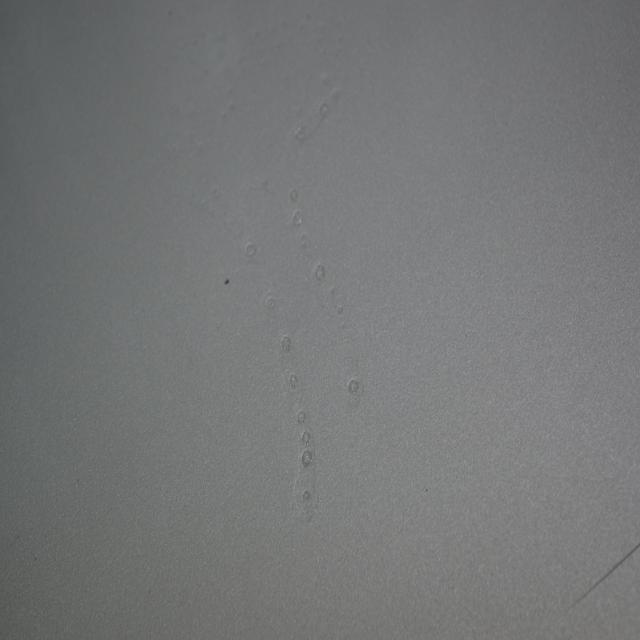dirt: (222, 274, 232, 288)
runs: (150, 0, 365, 529)
scratch: (560, 538, 640, 626)
